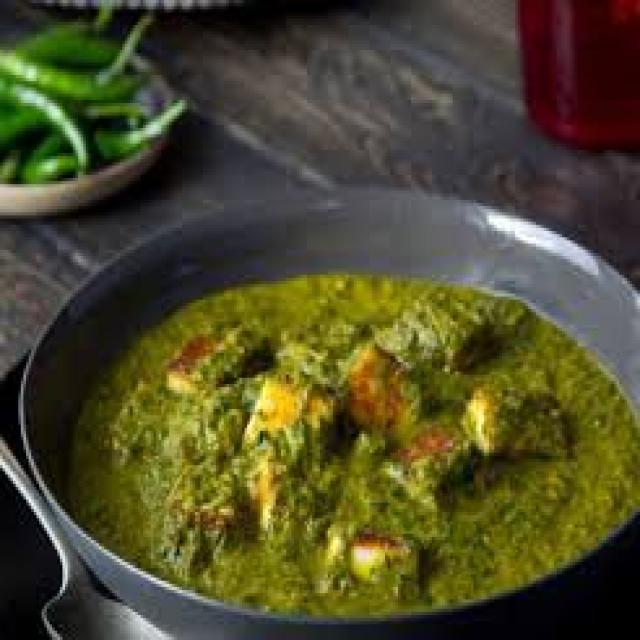Palak Paneer: (0, 268, 640, 640)
